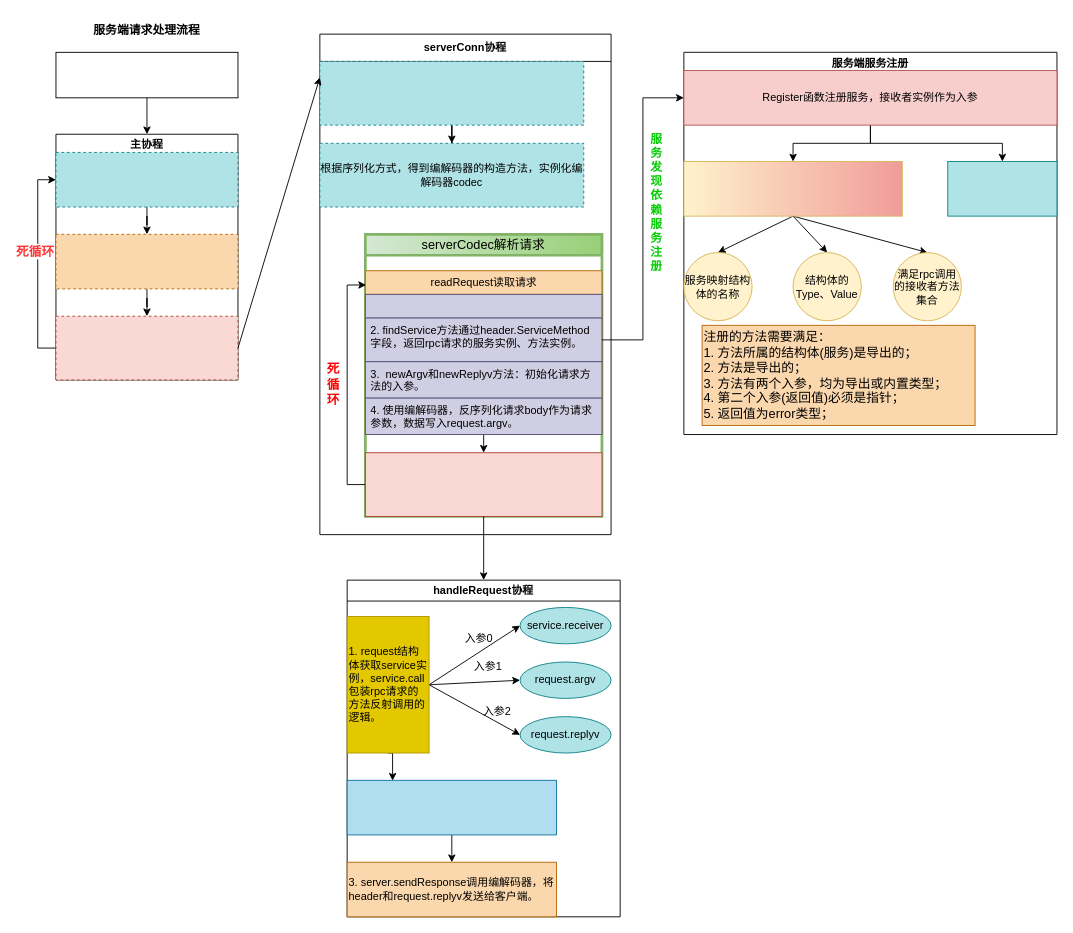
The diagram is 1073 pixels wide and 933 high, and some of its shapes have lost their labels. The shapes that lost their labels are listed below. From the top down, each one's centre as x and y in pixels, then its label:
pixel 146 74: net.Listren开启监听端口 调用Server.Accept(listener)
pixel 451 93: 反序列化得到Option结构体，得到序列化方式。
pixel 146 179: 主协程listener.Accept()监听指定端口
pixel 792 188: newService创建服务实例
pixel 1002 188: 存储服务实例到server.serviceMap
pixel 146 261: 客户端发起连接，主协程从Accept队列中取出连接实例conn
pixel 483 305: 1. 使用编解码器，反序列化出请求头header
pixel 146 347: 创建新协程与客户端通信 执行server.ServerConn(conn)
pixel 483 484: 创建新协程处理客户端请求 执行server.handleRequest
pixel 451 807: 2. rpc方法的响应结果写入request.replyv
